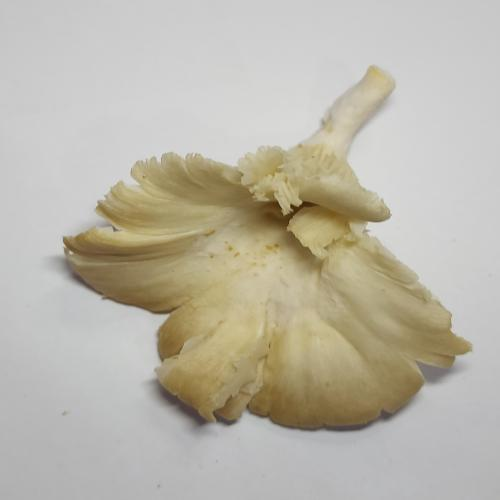Oyster Mushroom: (41, 61, 500, 500)
